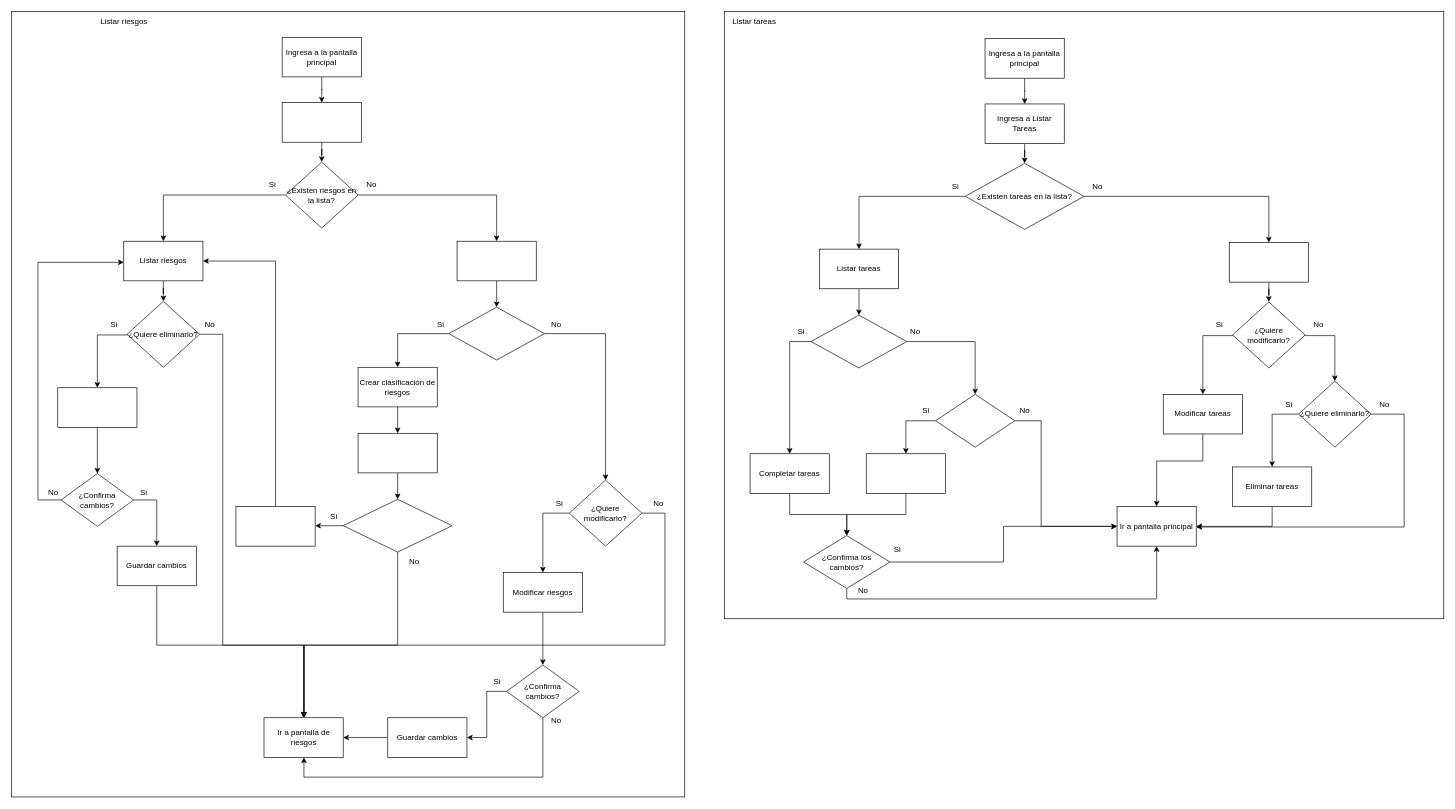
This 1455x809 diagram has some shape labels left out. The shapes that lost their labels are listed below. From the top down, each one's centre as x and y in pixels, then its label:
At point 321,122: "Ingresa a Listar Riesgos".
At point 496,261: "Añadir riesgos".
At point 1268,262: "Crear tareas".
At point 496,333: "¿Desea crear una clasificación?".
At point 858,341: "¿Desea completar tareas?".
At point 97,407: "Eliminar riesgos".
At point 975,420: "¿Desea vincular tareas?".
At point 397,453: "Clasificar riesgos".
At point 905,473: "Vincular tareas".
At point 275,526: "Agregar categoría".
At point 397,525: "¿Desea agregar una categoría?".
